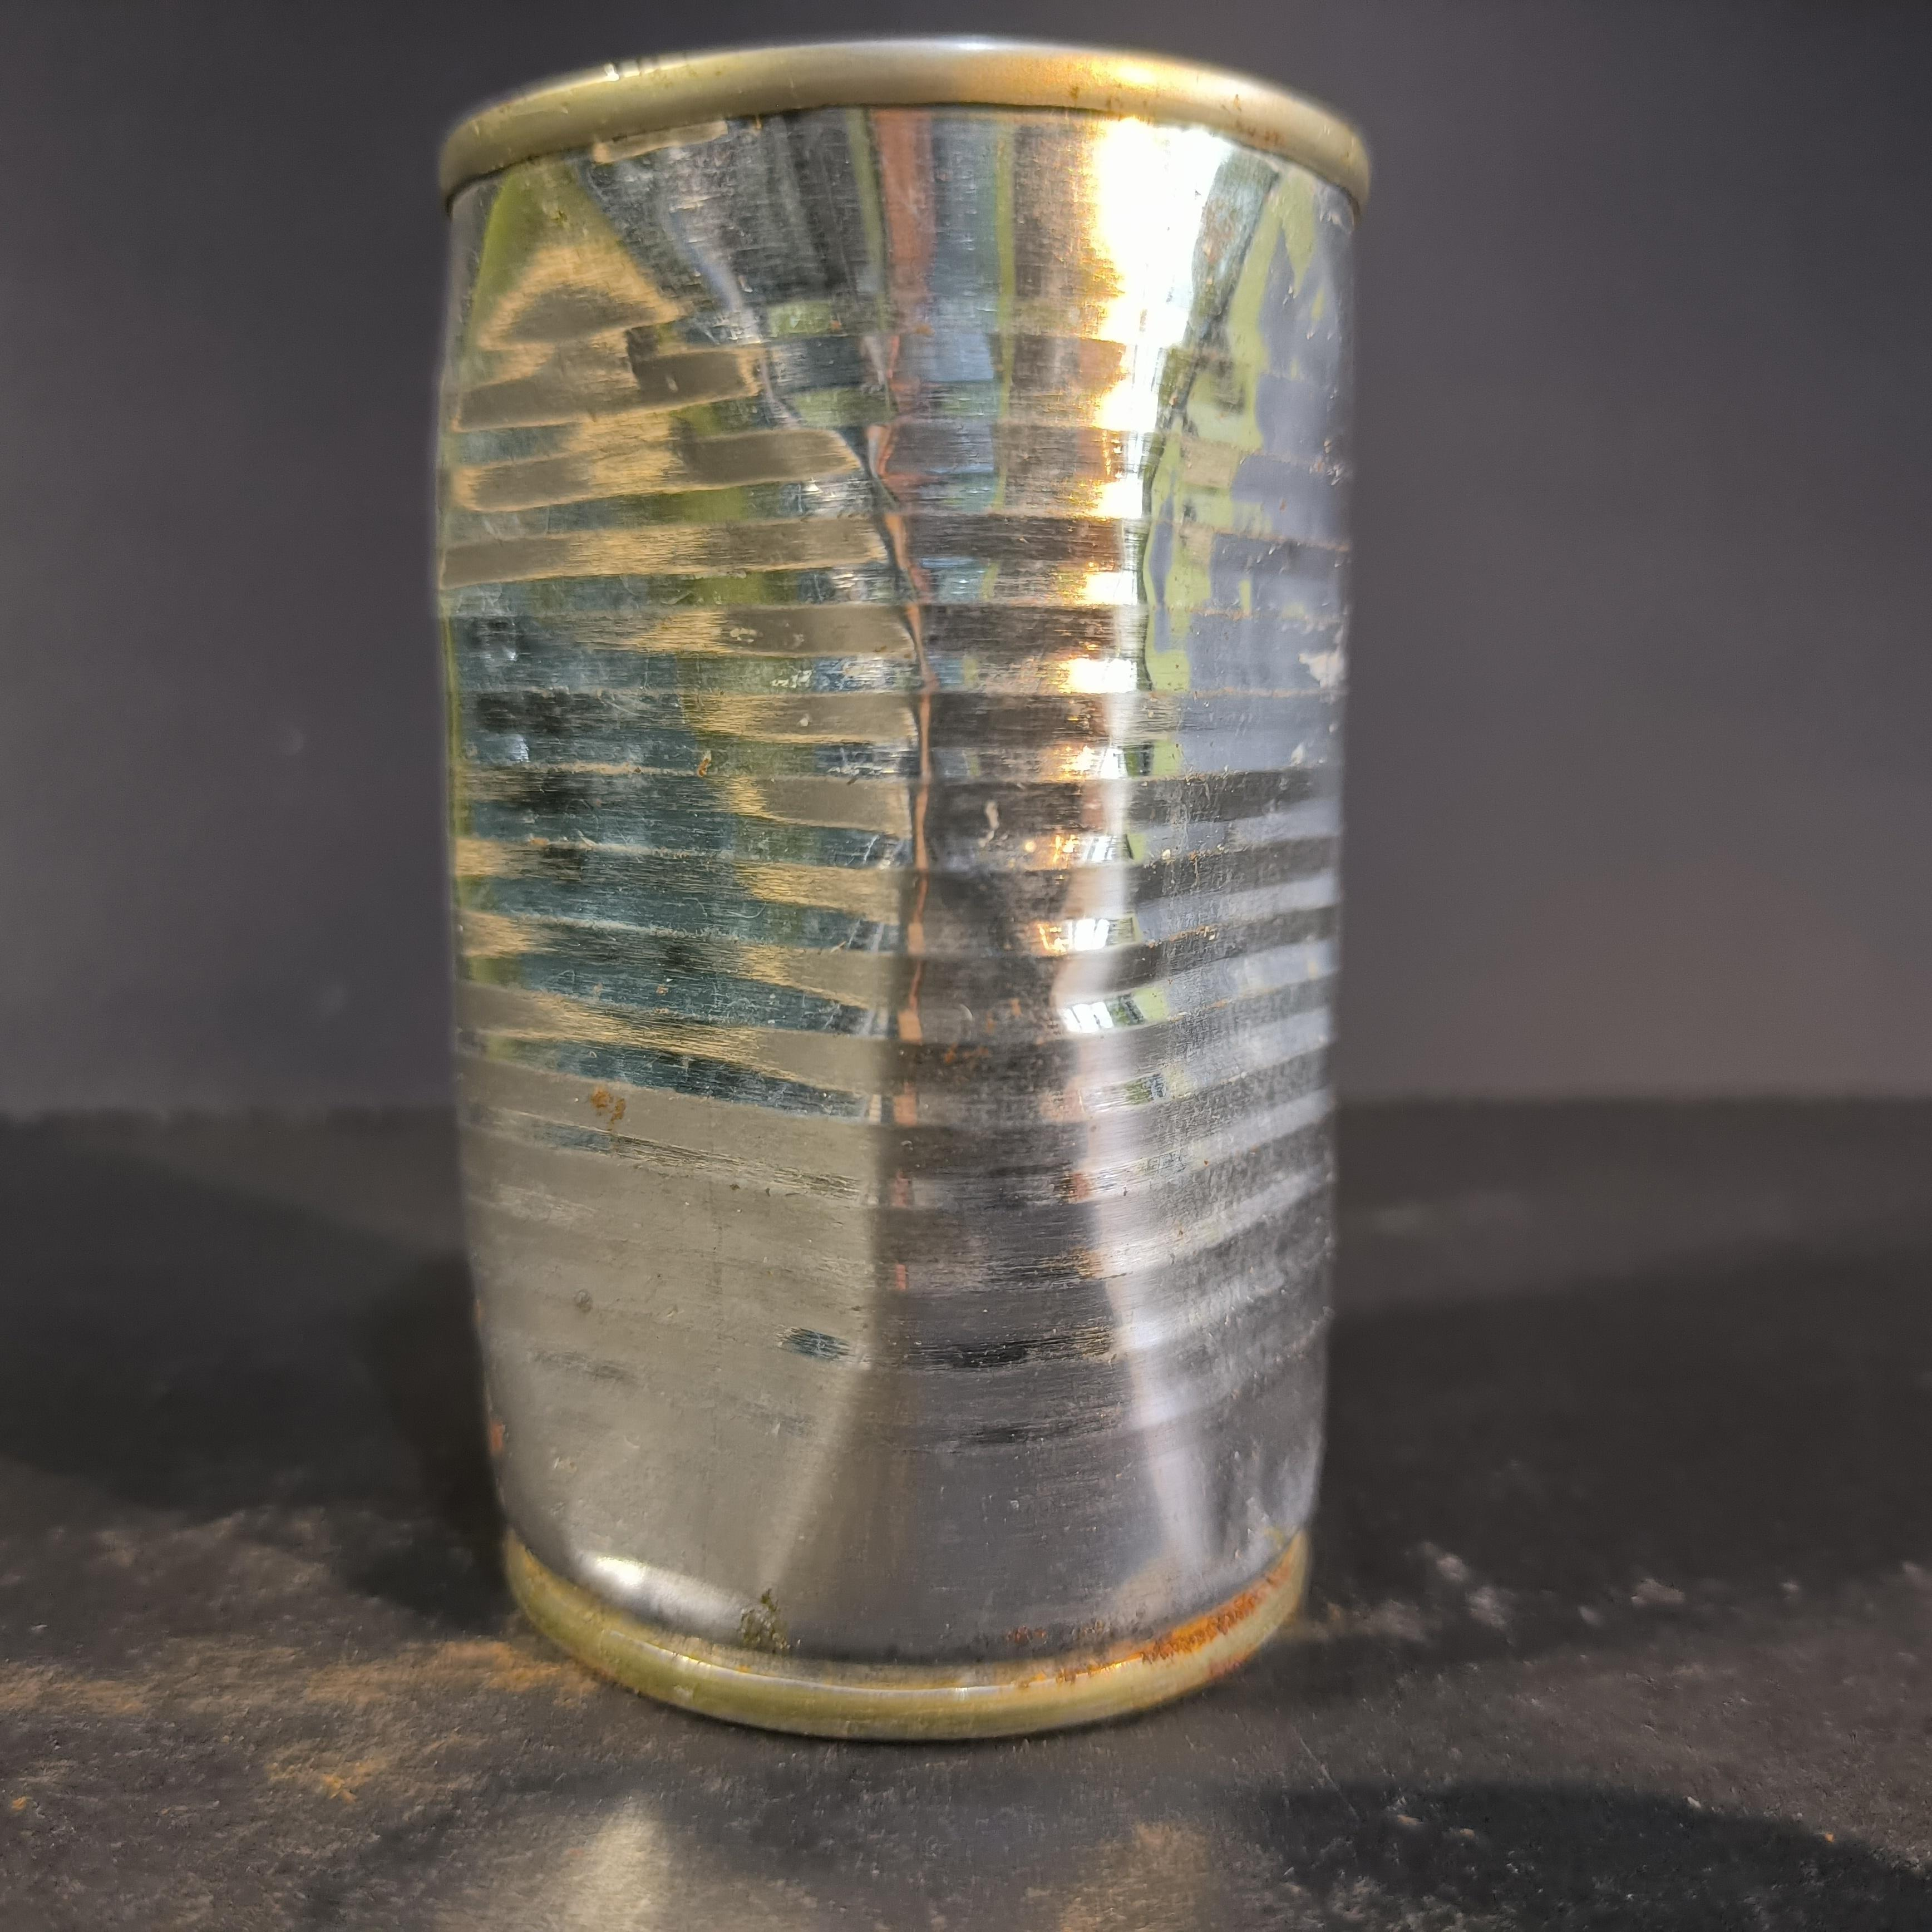Dented: (409, 11, 1388, 1772)
